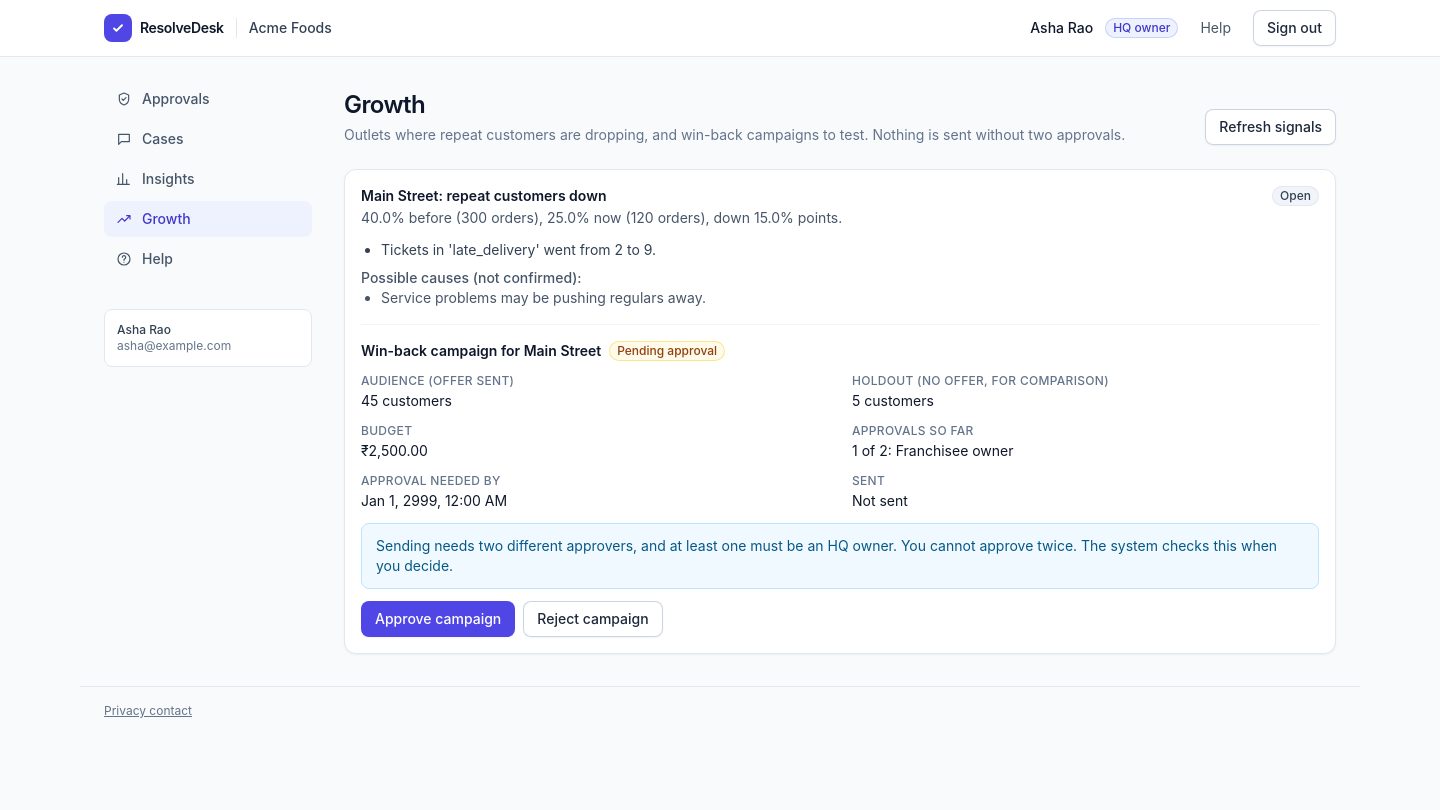
Test: growth page › shows the updated campaign after an approval
Click the button "Approve campaign" at (438, 619), box [361,601,515,637]
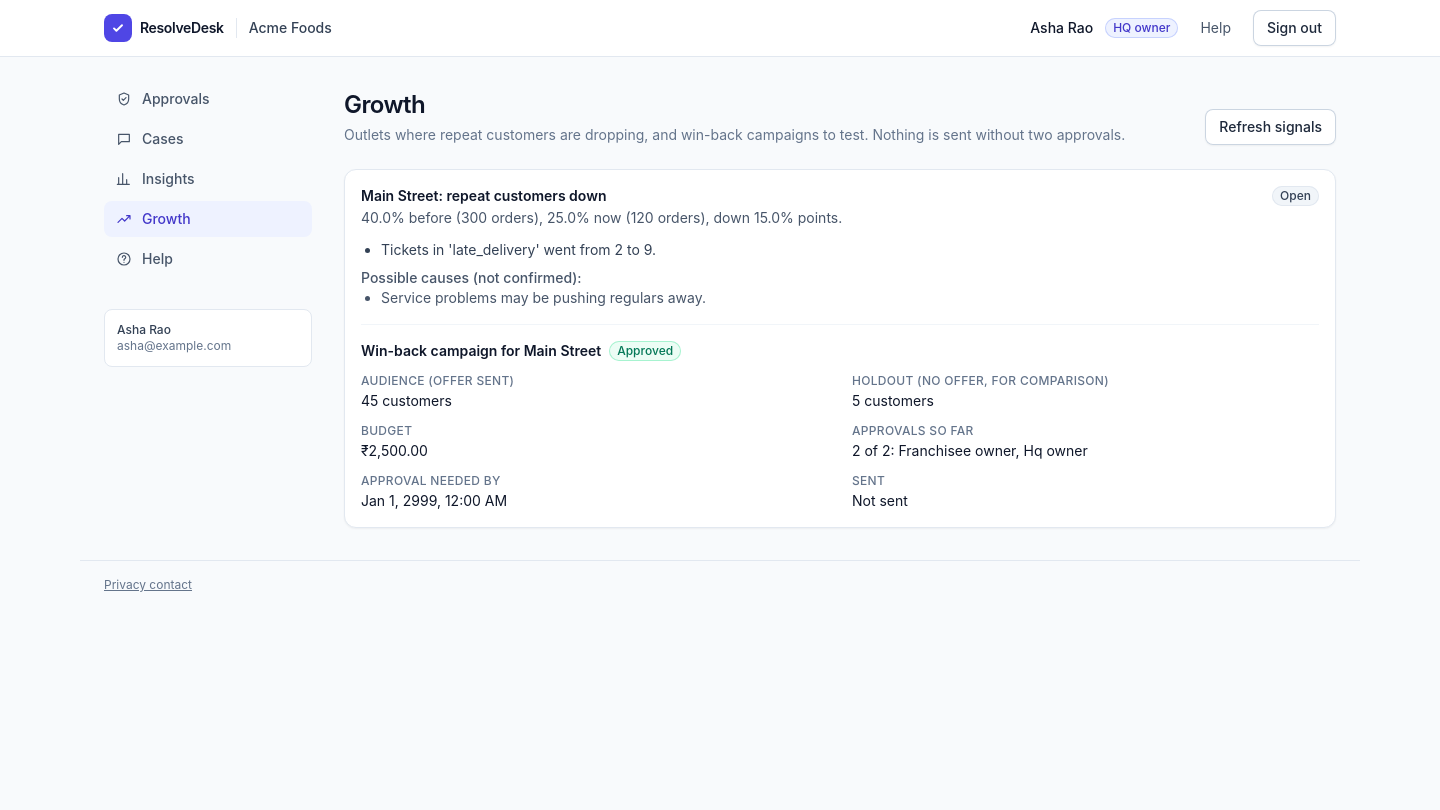
Check: the text "2 of 2: Franchisee owner, Hq owner" is shown, box [852,442,1088,459]
Check: the button "Approve campaign" is gone
